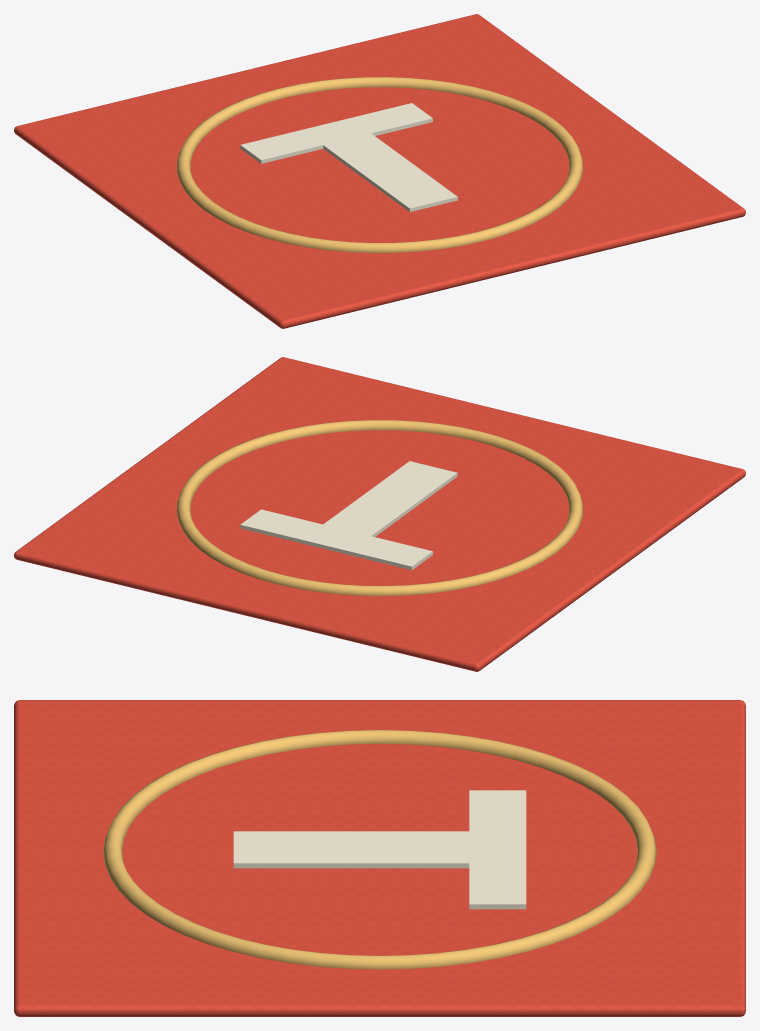
File: Arena_Rug.glb
3 renders of one model, top to bottom at view 1: azimuth 30°, elevation 25°; view 2: azimuth 150°, elevation 25°; view 3: azimuth 270°, elevation 25°, orthographic. The views are drawn at different scales.
Visible parts, largest first — view 1: Arena_Rug; view 2: Arena_Rug; view 3: Arena_Rug.
Boxes of the visible parts, <box> form: Arena_Rug: <box>14,14,745,328</box>; Arena_Rug: <box>14,357,745,671</box>; Arena_Rug: <box>14,700,745,1016</box>.
Size of the model in its own units: 2 by 0.063 by 2.
Materials: 3 (1 with a texture image).
